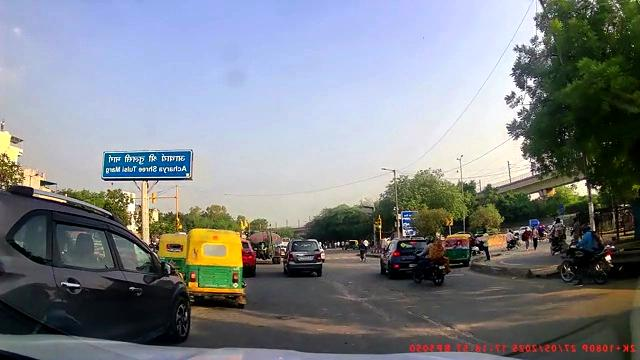motorcycle_with_helmet: (558, 223, 615, 285)
motorcycle_without_helmet: (411, 232, 450, 287)
passenger_without_helmet: (411, 232, 450, 287)
